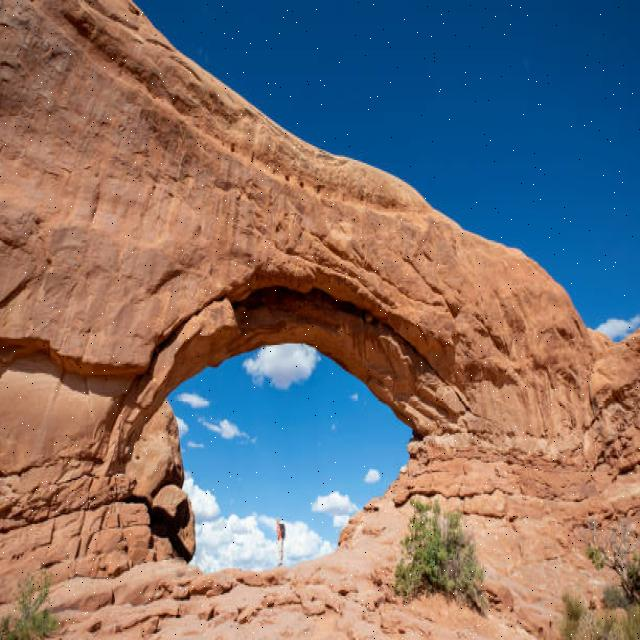Sedimentary: (2, 2, 640, 505)
